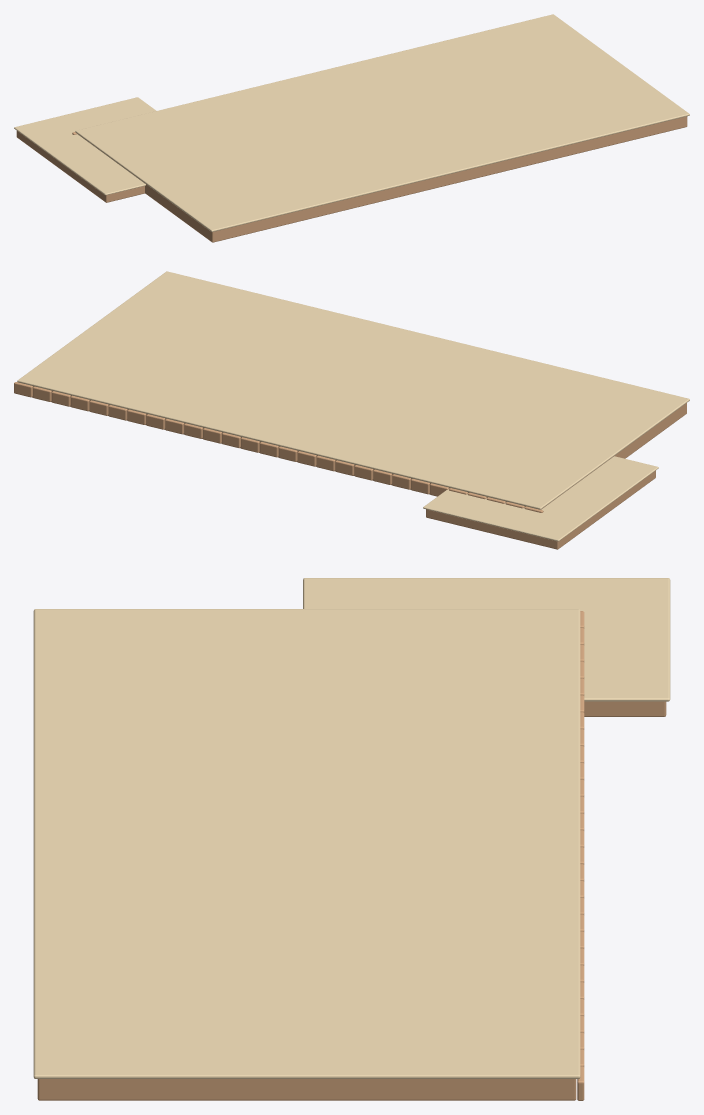
File: SM_TerracedVillageFoundation.fbx
3 views of the same model, one above another, from view 1: azimuth 30°, elevation 25°; view 2: azimuth 150°, elevation 25°; view 3: azimuth 270°, elevation 25° (orthographic). The views are drawn at different scales.
Parts seen in each view (by area): view 1: SM_TerracedVillageFoundation_Export; view 2: SM_TerracedVillageFoundation_Export; view 3: SM_TerracedVillageFoundation_Export.
Part boxes in pixels (x1,y1,x2,y2): SM_TerracedVillageFoundation_Export: (14, 14, 689, 242); SM_TerracedVillageFoundation_Export: (14, 271, 689, 549); SM_TerracedVillageFoundation_Export: (33, 578, 670, 1100).
Size of the model in its own units: 6014 by 3190 by 151.
